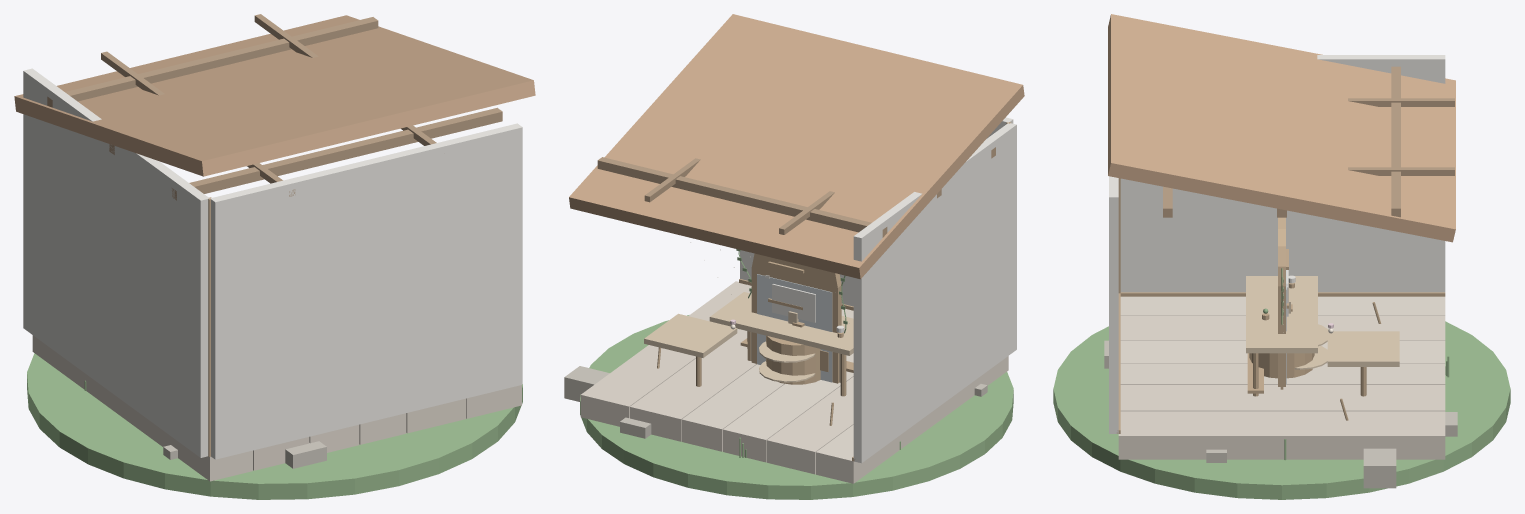
Rendered from cottagecore-scene.glb.
3 renders of one model, left to right at view 1: azimuth 30°, elevation 25°; view 2: azimuth 150°, elevation 25°; view 3: azimuth 270°, elevation 25°, orthographic. The views are drawn at different scales.
Parts seen in each view (by area): view 1: BackWall, LeftWall, Roof, BasePlatform, BeamV_0, FloorBoard_0, BeamV_2, FloorBoard_4, FloorBoard_5, FloorBoard_3, BeamH_0, BeamH_1 (+4 smaller); view 2: Roof, LeftWall, BasePlatform, FloorBoard_4, FloorBoard_5, FloorBoard_2, FloorBoard_1, FloorBoard_0, FloorBoard_3, BeamV_2, DeskTop_Long, DeskTop_Short (+10 smaller); view 3: Roof, LeftWall, BasePlatform, FloorBoard_5, FloorBoard_4, FloorBoard_1, FloorBoard_3, FloorBoard_0, DeskTop_Long, FloorBoard_2, DeskTop_Short, BackWall (+8 smaller).
Boxes of the visible parts, left/top/right/bottom form: BackWall: left=210, top=123, right=522, bottom=459; LeftWall: left=23, top=68, right=209, bottom=457; Roof: left=14, top=15, right=535, bottom=176; BasePlatform: left=27, top=353, right=522, bottom=499; BeamV_0: left=172, top=107, right=502, bottom=200; FloorBoard_0: left=32, top=335, right=252, bottom=481; BeamV_2: left=47, top=17, right=378, bottom=107; FloorBoard_4: left=406, top=398, right=465, bottom=433; FloorBoard_5: left=466, top=385, right=521, bottom=418; FloorBoard_3: left=359, top=413, right=406, bottom=444; BeamH_0: left=101, top=51, right=295, bottom=196; BeamH_1: left=254, top=14, right=436, bottom=145; Roof: left=569, top=14, right=1024, bottom=279; LeftWall: left=853, top=123, right=1016, bottom=463; BasePlatform: left=580, top=315, right=1013, bottom=499; FloorBoard_4: left=630, top=328, right=756, bottom=441; FloorBoard_5: left=580, top=281, right=751, bottom=426; FloorBoard_2: left=723, top=353, right=853, bottom=462; FloorBoard_1: left=766, top=377, right=853, bottom=474; FloorBoard_0: left=816, top=356, right=1008, bottom=483; FloorBoard_3: left=681, top=309, right=853, bottom=451; BeamV_2: left=597, top=157, right=887, bottom=237; DeskTop_Long: left=709, top=292, right=853, bottom=355; DeskTop_Short: left=644, top=313, right=737, bottom=357; Roof: left=1108, top=14, right=1455, bottom=242; LeftWall: left=1120, top=55, right=1445, bottom=292; BasePlatform: left=1053, top=321, right=1510, bottom=499; FloorBoard_5: left=1118, top=411, right=1445, bottom=459; FloorBoard_4: left=1120, top=384, right=1445, bottom=411; FloorBoard_1: left=1120, top=315, right=1445, bottom=340; FloorBoard_3: left=1120, top=363, right=1445, bottom=384; FloorBoard_0: left=1120, top=296, right=1445, bottom=315; DeskTop_Long: left=1246, top=276, right=1317, bottom=353; FloorBoard_2: left=1120, top=341, right=1445, bottom=363; DeskTop_Short: left=1327, top=331, right=1399, bottom=366; BackWall: left=1109, top=176, right=1118, bottom=433.
Size of the model in its own units: 14 by 12.44 by 14.
